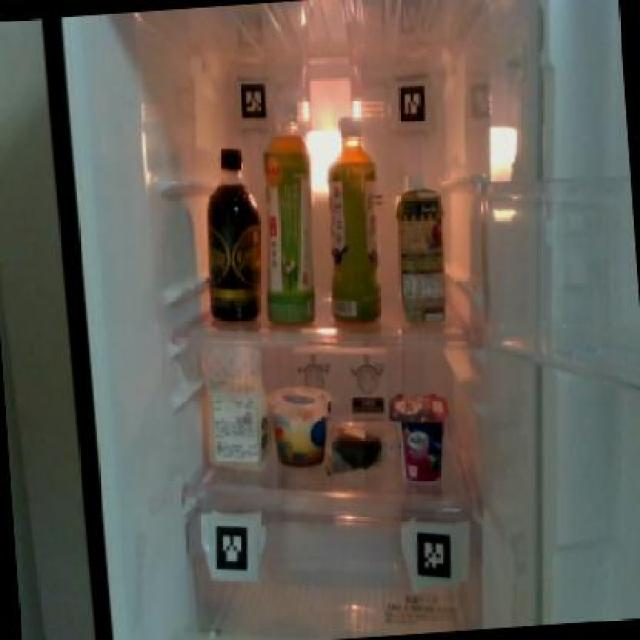coffee: (197, 136, 266, 327)
pudding: (268, 382, 327, 468)
rice_ball: (328, 417, 386, 474)
sandwich: (195, 334, 274, 474)
smoothie: (391, 173, 451, 324)
tea_a: (316, 110, 387, 328)
tea_i: (254, 117, 323, 328)
yogurt: (386, 385, 454, 486)
